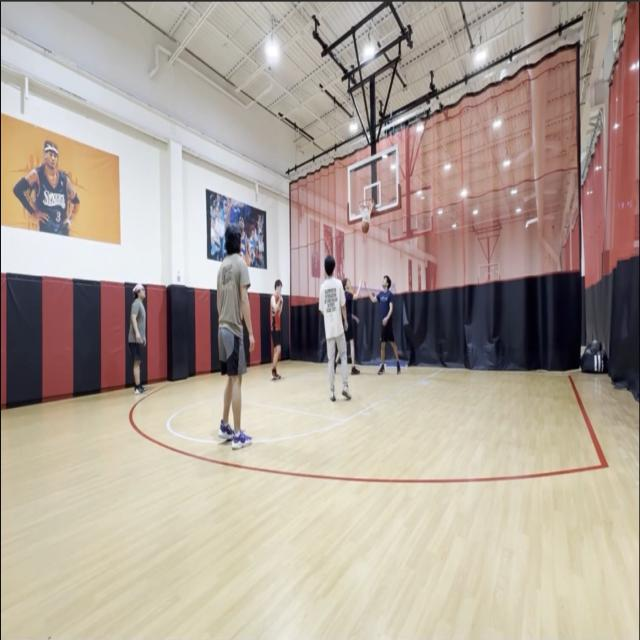Basketball: (362, 221, 369, 234)
Basketball Rim: (358, 199, 374, 222)
